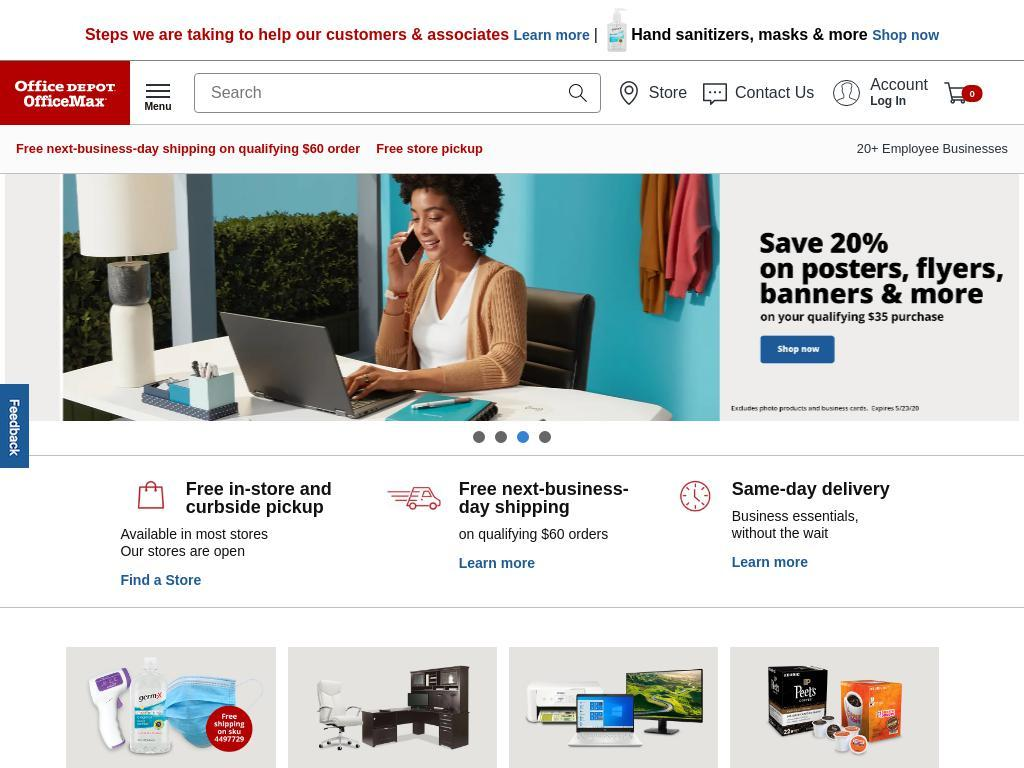button: (5, 174, 1019, 422), (8, 125, 369, 173), (0, 61, 130, 125), (695, 61, 823, 125), (848, 125, 1017, 173), (822, 61, 936, 125), (368, 125, 491, 173), (608, 61, 696, 125), (936, 61, 1008, 125), (0, 384, 29, 468), (120, 566, 202, 595), (731, 548, 809, 577), (130, 73, 186, 113), (458, 549, 535, 578), (0, 174, 5, 422), (1019, 174, 1024, 422), (473, 431, 485, 443), (495, 431, 507, 443), (517, 431, 529, 443), (539, 431, 551, 443)
field: (195, 74, 556, 112)
image: (5, 174, 1019, 422), (729, 647, 940, 768), (66, 647, 276, 768), (287, 647, 497, 768), (508, 647, 718, 768), (12, 73, 118, 113), (114, 480, 168, 526), (387, 480, 441, 526), (660, 480, 714, 526), (0, 384, 29, 468), (0, 174, 5, 422), (1019, 174, 1024, 422), (606, 8, 627, 52), (833, 80, 859, 106), (565, 81, 590, 105), (616, 81, 641, 105), (703, 81, 728, 105), (944, 81, 968, 105)
link: (631, 26, 869, 43), (376, 141, 484, 156), (872, 27, 940, 43)
text: (185, 480, 358, 526), (458, 480, 631, 526), (84, 26, 514, 43), (731, 508, 904, 548), (16, 141, 360, 156), (731, 480, 904, 508), (458, 526, 631, 549), (120, 526, 269, 542), (120, 543, 246, 559), (735, 84, 815, 102), (513, 27, 590, 43), (870, 76, 928, 94), (870, 94, 928, 110), (648, 84, 688, 102), (136, 102, 180, 112), (593, 26, 607, 43), (969, 89, 975, 99)
